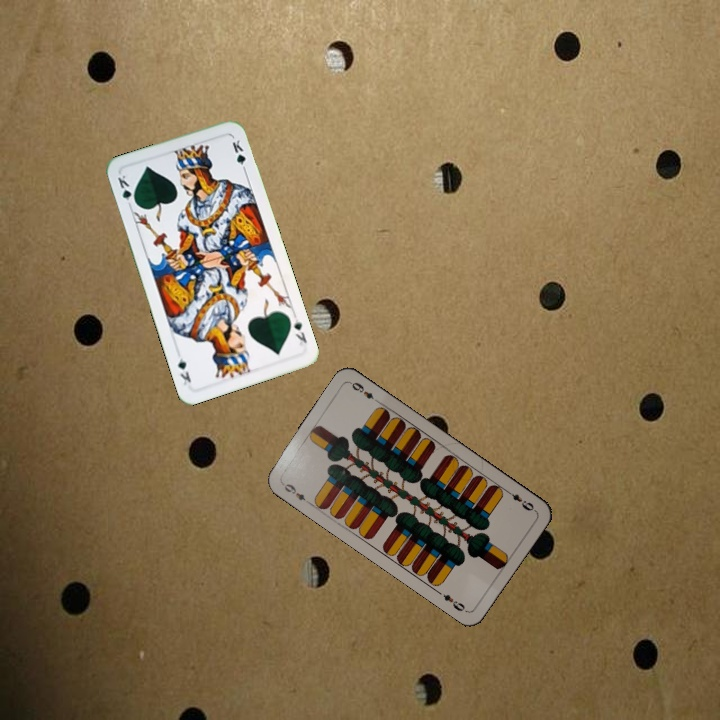E9: (502, 486, 538, 514), (278, 478, 313, 506)
GK: (113, 171, 139, 210), (290, 311, 310, 348)
